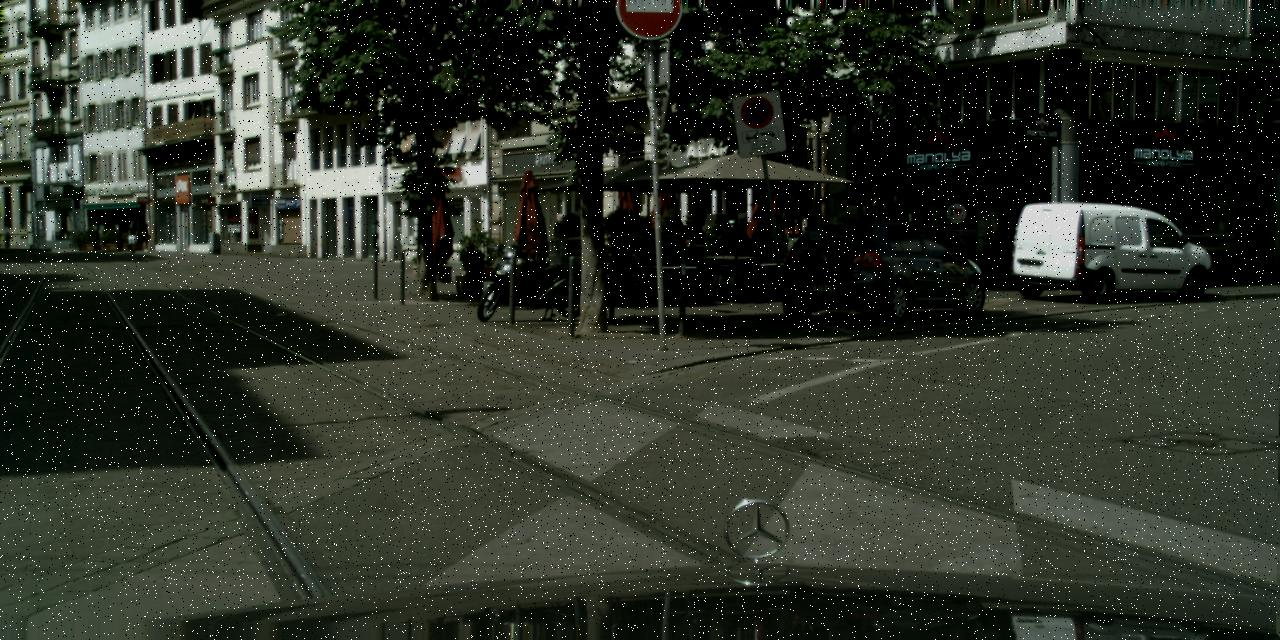ped: (125, 220, 138, 253), (140, 223, 151, 251)
